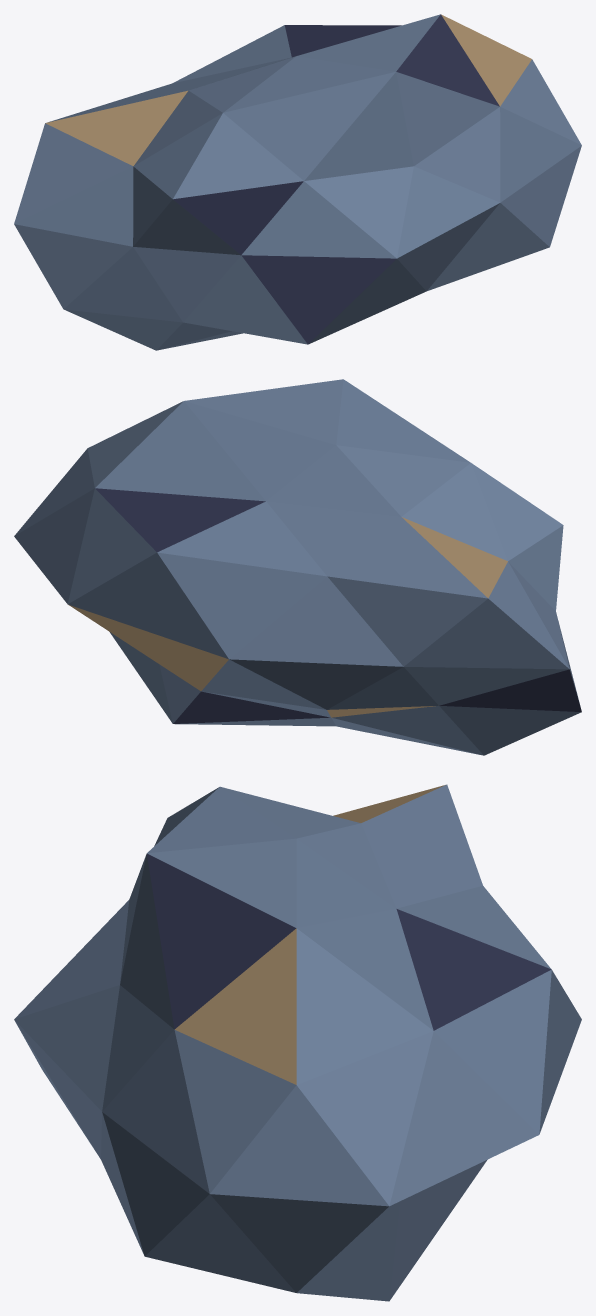
File: faceted_asteroid.glb
3 views of the same model, one above another, from view 1: azimuth 30°, elevation 25°; view 2: azimuth 150°, elevation 25°; view 3: azimuth 270°, elevation 25° (orthographic). The views are drawn at different scales.
Parts seen in each view (by area): view 1: faceted_asteroid; view 2: faceted_asteroid; view 3: faceted_asteroid.
Part boxes in pixels (x1=…): faceted_asteroid: x1=14, y1=14, x2=581, y2=350; faceted_asteroid: x1=14, y1=379, x2=581, y2=755; faceted_asteroid: x1=14, y1=784, x2=581, y2=1301.
Bounding box in the file's own units: 3.78 × 1.94 × 2.53.
